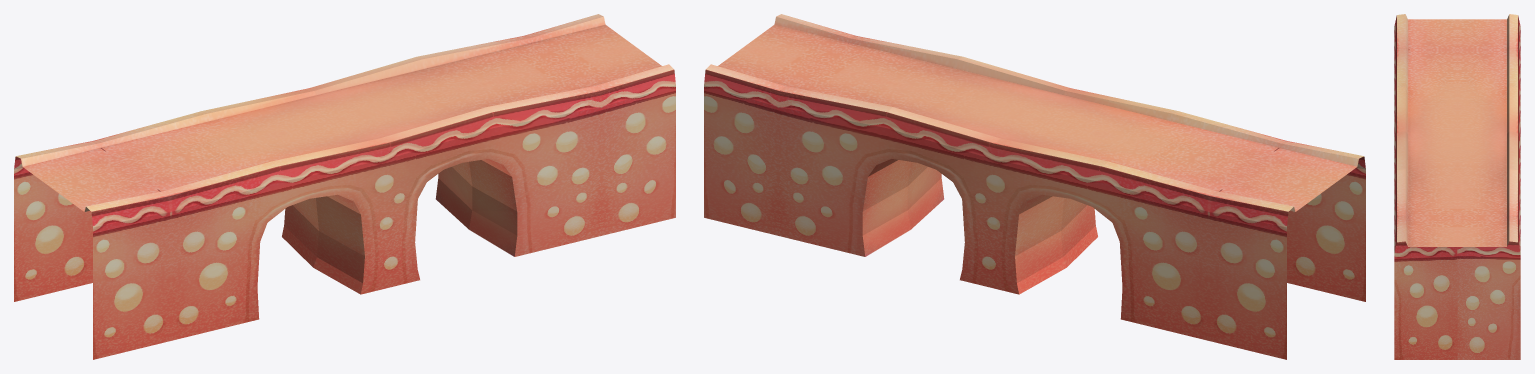
Rendered from common_obj_179.fbx.
3 views of the same model, side by side, from view 1: azimuth 30°, elevation 25°; view 2: azimuth 150°, elevation 25°; view 3: azimuth 270°, elevation 25° (orthographic). The views are drawn at different scales.
Visible parts, largest first — view 1: common_obj_179; view 2: common_obj_179; view 3: common_obj_179.
Part boxes in pixels (x1,y1,x2,y2): common_obj_179: (14,14,675,359); common_obj_179: (704,14,1365,359); common_obj_179: (1394,14,1520,359).
Size of the model in its own units: 1277 by 314 by 300.
